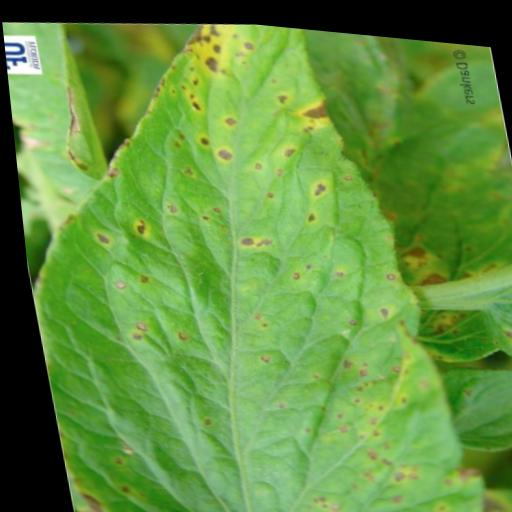Bacterial Spot: (0, 0, 483, 512)
